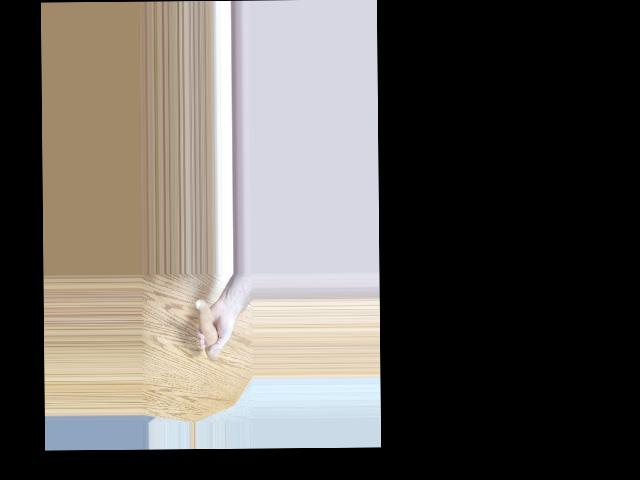sweet_potato: (197, 294, 223, 355)
